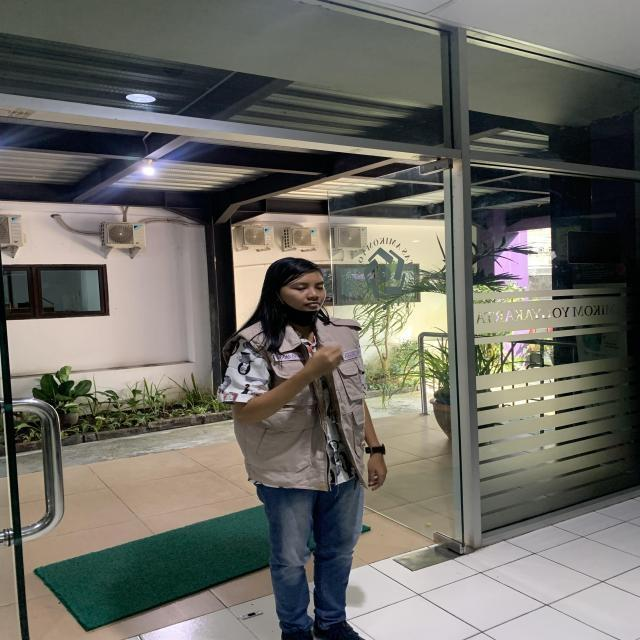hairnet: (262, 256, 332, 321)
